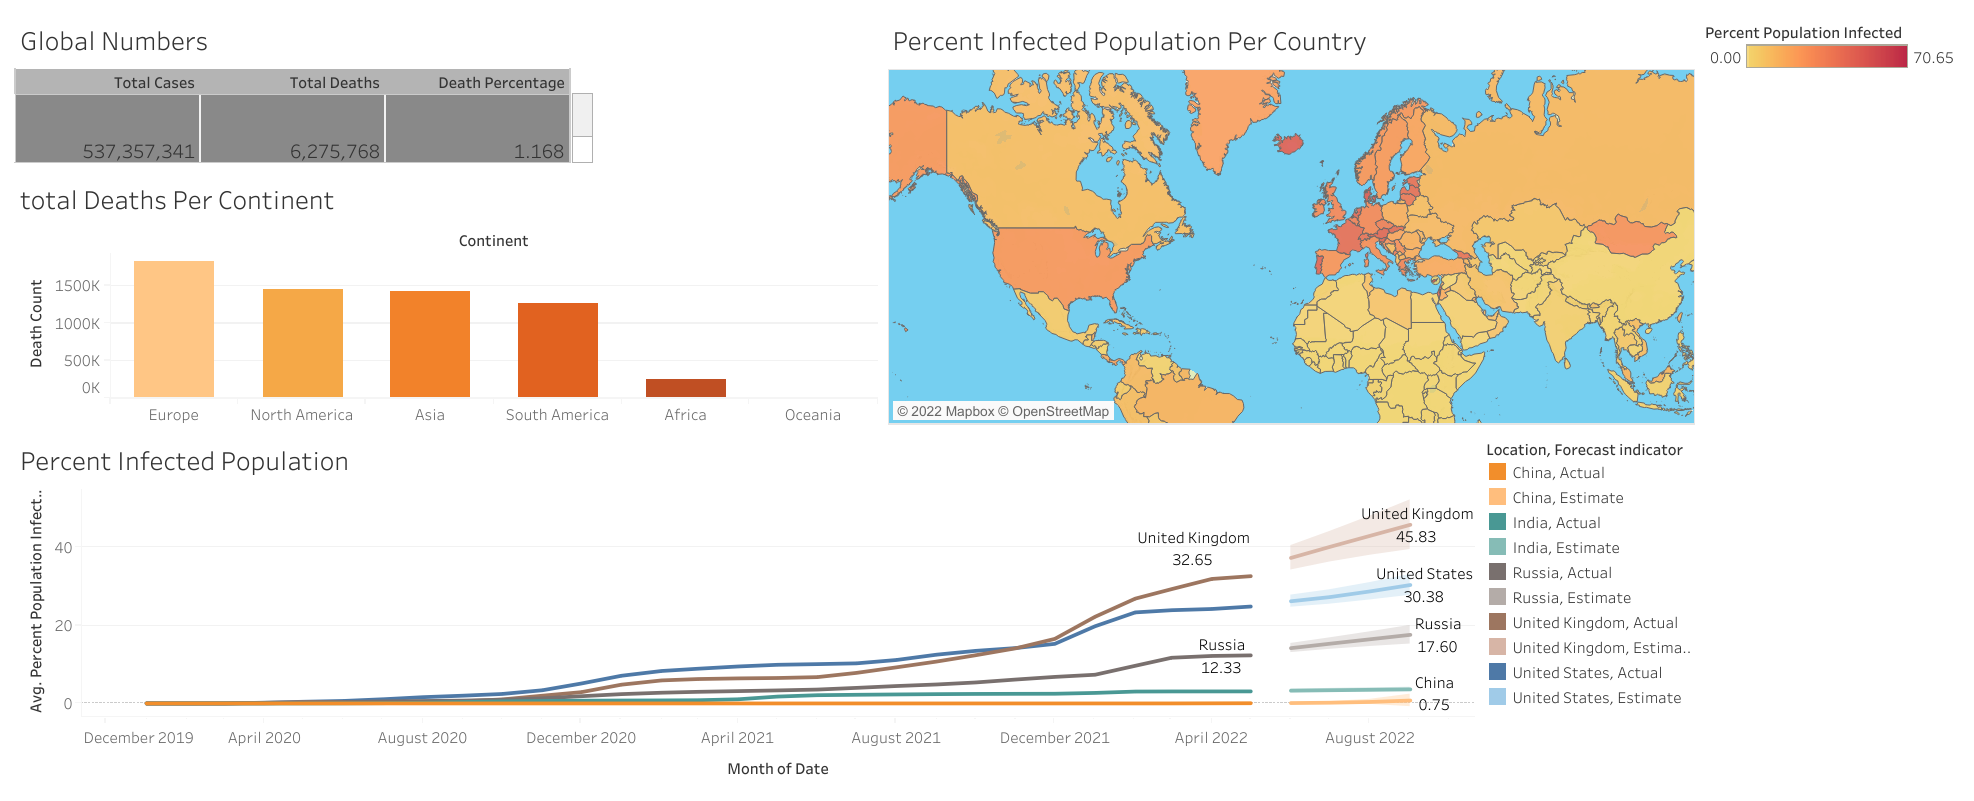

What the dashboard file says about the page in this screenshot:
{"tool":"tableau","page":{"name":"Dashboard 1","canvas":[1000,1000],"units":"permille","ordinal":0},"visuals":[{"type":"worksheet","title":"Sheet 1","mark":"Automatic","box":[4.9,8.8,444,199.8]},{"type":"worksheet","title":"Sheet 3","mark":"Automatic","box":[448.9,8.8,415.8,526.9]},{"type":"legend","title":"Sheet 3","param":"[federated.0sthi9i0mtw9m719svwo00kewzk7].[sum:PercentPopulationInfected:qk]","box":[864.7,8.8,130.4,80.1]},{"type":"worksheet","title":"Sheet 2","mark":"Automatic","rows":["TotalDeathCount"],"cols":["location"],"box":[4.9,208.6,444,327.1]},{"type":"worksheet","title":"Sheet 4","mark":"Automatic","rows":["PercentPopulationInfected"],"cols":["date"],"box":[4.9,535.7,747.9,455.5]},{"type":"legend","title":"Sheet 4","param":"[federated.1762vcn06y4adz10zm7bt1dvg1uh].[none:Location:nk]\n[federated.1762vcn06","box":[752.8,535.7,111.9,455.5]}]}

Visuals, with their boxes on the dashboard's canvas, which has no fixed pixel size, in thousandths of its width and height (x1, y1, x2, y2). These are canvas units, not pixel positions in the 1974x801 screenshot, which may show the page scaled, cropped or inside an application window:
"Sheet 1" worksheet: <box>5,9,449,209</box>
"Sheet 3" worksheet: <box>449,9,865,536</box>
"Sheet 3" legend: <box>865,9,995,89</box>
"Sheet 2" worksheet: <box>5,209,449,536</box>
"Sheet 4" worksheet: <box>5,536,753,991</box>
"Sheet 4" legend: <box>753,536,865,991</box>
